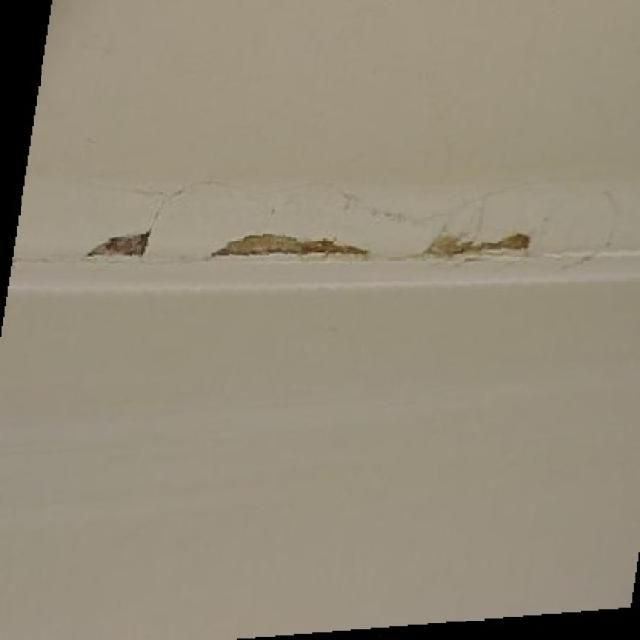crack: (423, 192, 537, 218), (333, 189, 415, 222), (137, 186, 191, 228), (184, 255, 357, 264)
